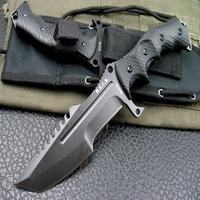knife: (14, 16, 186, 195)
